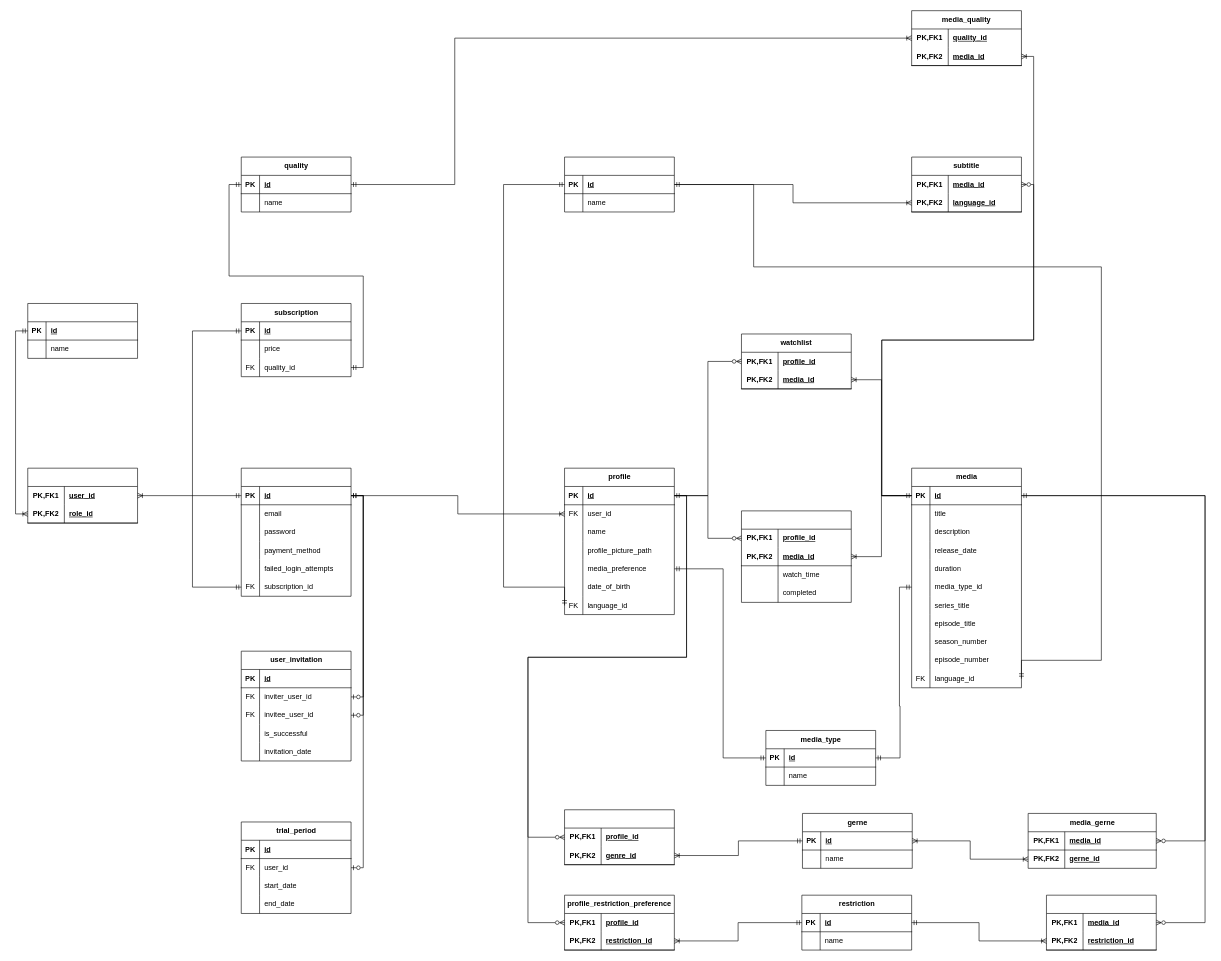
Some shapes in this 1221 by 961 pixel diagram are drawn without their labels. Here are the shapes that lost their labels. From the top down, the box of each, then its label:
(564, 156, 674, 212): language
(27, 303, 138, 358): role
(27, 468, 138, 523): user_role
(241, 468, 351, 596): user
(741, 510, 851, 602): profile_history
(564, 809, 674, 865): profile_genre_preference
(1046, 895, 1156, 950): media_restriction
